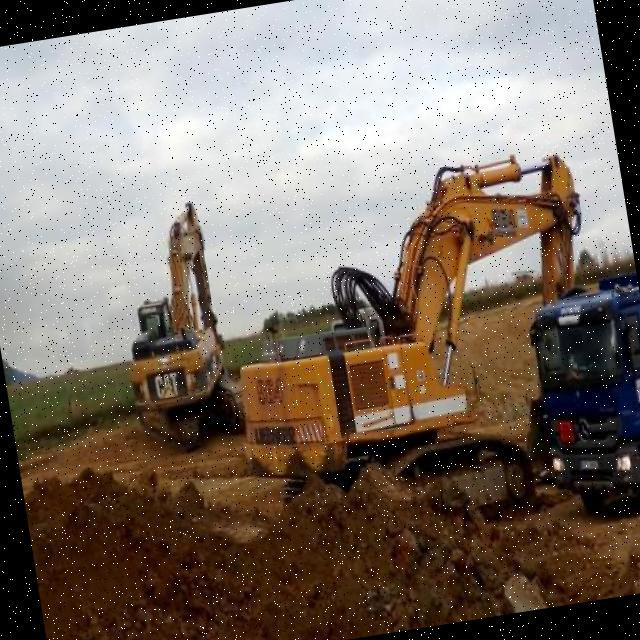Dump Truck: (520, 271, 640, 533)
Excavator: (205, 142, 628, 550), (95, 188, 246, 471)
